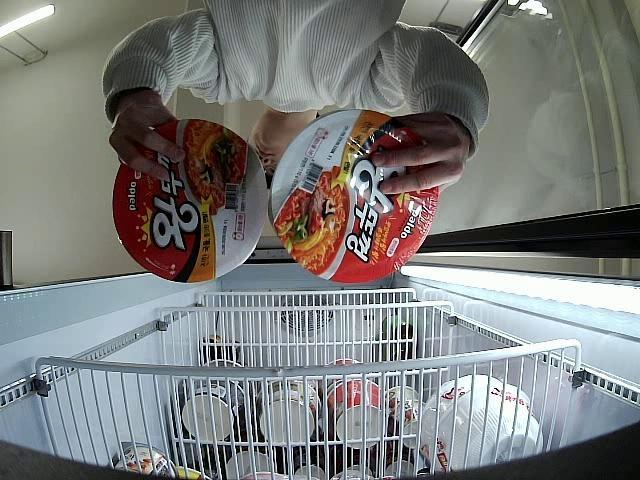10_wangTtukkeong: (272, 110, 439, 281), (114, 118, 266, 282)
